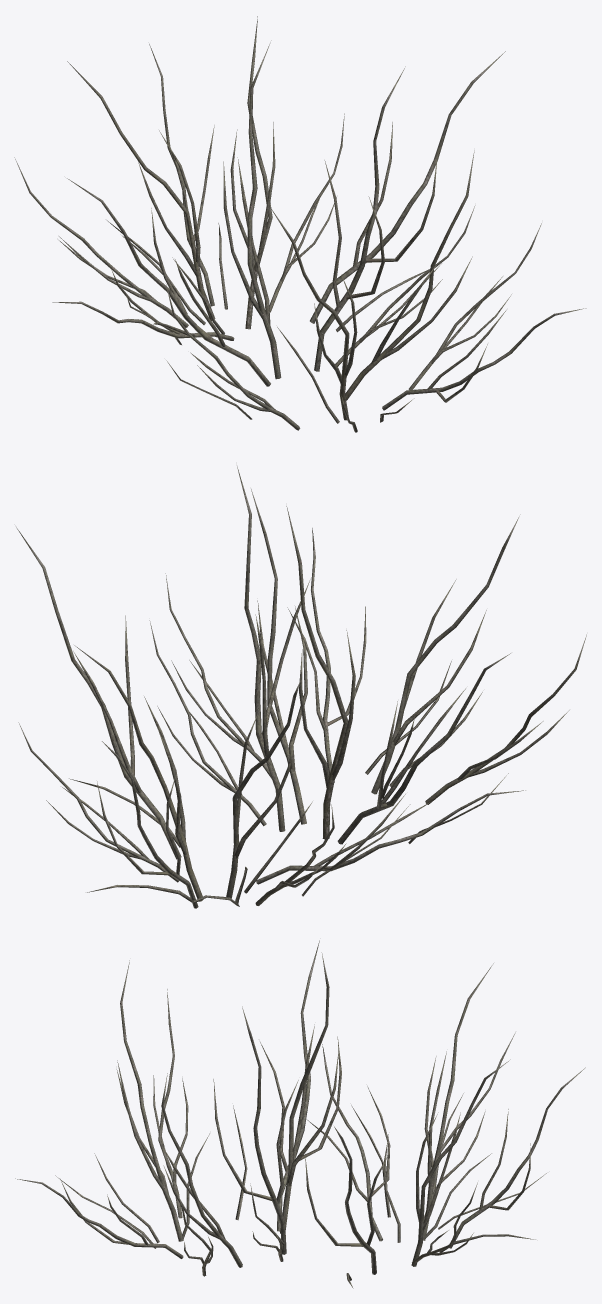
File: SM_Bush_01.fbx
3 renders of one model, top to bottom at view 1: azimuth 30°, elevation 25°; view 2: azimuth 150°, elevation 25°; view 3: azimuth 270°, elevation 25°, orthographic. The views are drawn at different scales.
Parts seen in each view (by area): view 1: SM_Bush_01; view 2: SM_Bush_01; view 3: SM_Bush_01.
Boxes of the visible parts, left/top/right/bottom form: SM_Bush_01: left=14, top=16, right=586, bottom=432; SM_Bush_01: left=16, top=466, right=586, bottom=908; SM_Bush_01: left=15, top=940, right=585, bottom=1288.
Size of the model in its own units: 433 by 511 by 299.
1 material, 1 textured.
